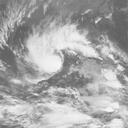cyclone: (24, 24, 88, 76)
